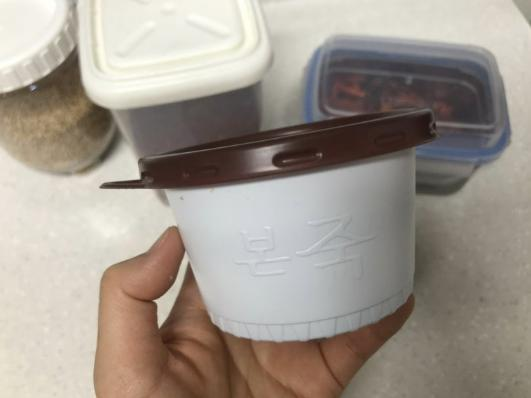Lunch Box: (101, 109, 436, 341)
